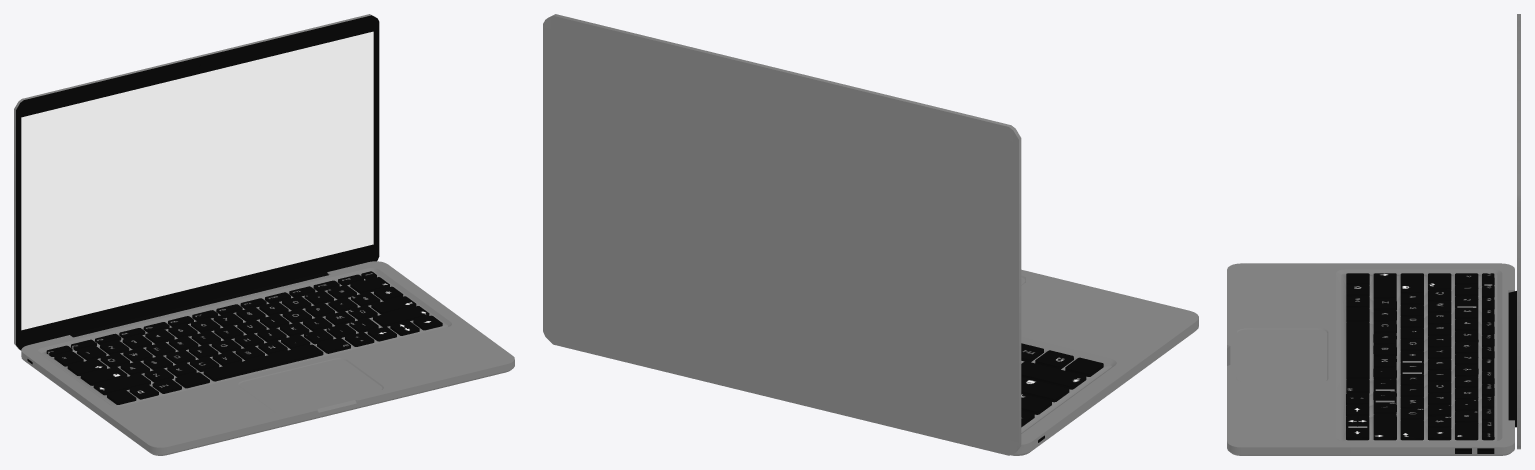
File: laptop.glb
3 renders of one model, left to right at view 1: azimuth 30°, elevation 25°; view 2: azimuth 150°, elevation 25°; view 3: azimuth 270°, elevation 25°, orthographic. The views are drawn at different scales.
Visible parts, largest first — view 1: Screen_ComputerScreen_0, Frame_ComputerFrame_0; view 2: Screen_ComputerScreen_0, Frame_ComputerFrame_0; view 3: Frame_ComputerFrame_0, Screen_ComputerScreen_0.
Boxes of the visible parts, x1,y1,x2,y2 form: Screen_ComputerScreen_0: [14, 14, 379, 350]; Frame_ComputerFrame_0: [21, 261, 514, 455]; Screen_ComputerScreen_0: [543, 14, 1021, 455]; Frame_ComputerFrame_0: [1011, 269, 1198, 455]; Frame_ComputerFrame_0: [1227, 263, 1514, 455]; Screen_ComputerScreen_0: [1508, 14, 1520, 449].
Size of the model in its own units: 30.4 by 20.51 by 20.5.
2 materials, 2 textured.
